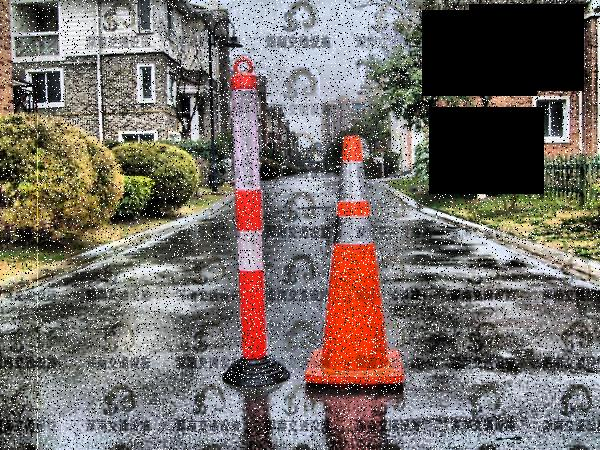bench: (220, 55, 287, 383)
camera: (301, 127, 404, 390)
